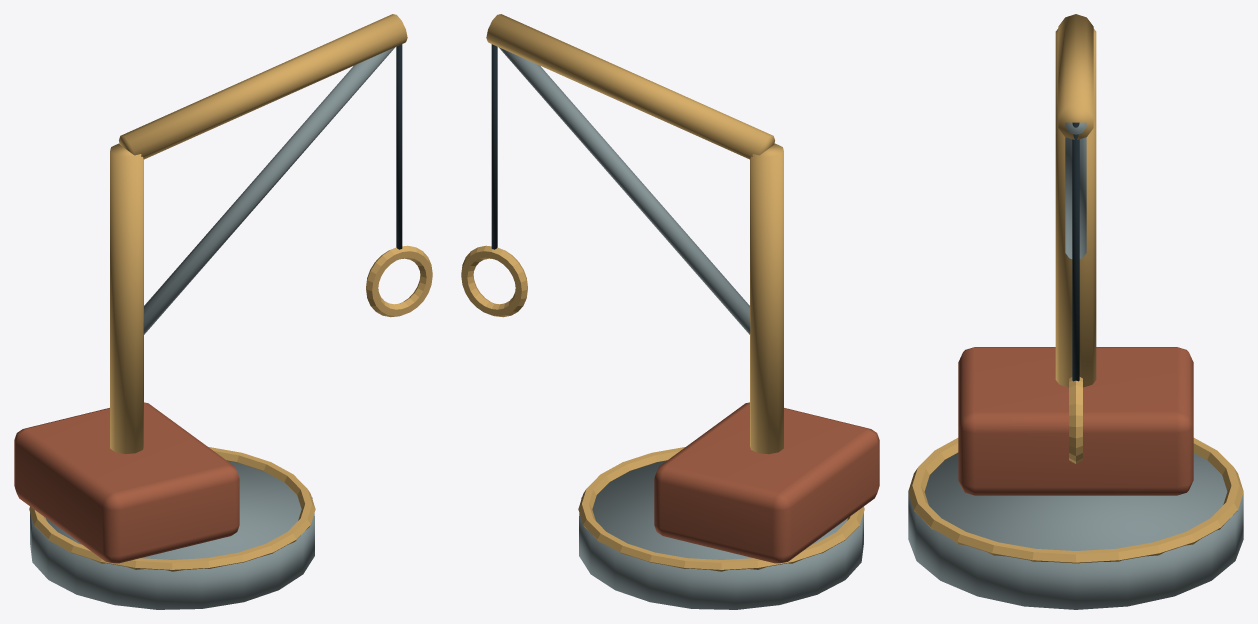
File: module-salvage.glb
3 views of the same model, side by side, from view 1: azimuth 30°, elevation 25°; view 2: azimuth 150°, elevation 25°; view 3: azimuth 270°, elevation 25° (orthographic). The views are drawn at different scales.
Visible parts, largest first — view 1: module-salvage / Brass | machined champagne, module-salvage / Copper | patinated oxblood, module-salvage / Iron | weathered steel, module-salvage / Rubber | dark insets; view 2: module-salvage / Brass | machined champagne, module-salvage / Copper | patinated oxblood, module-salvage / Iron | weathered steel, module-salvage / Rubber | dark insets; view 3: module-salvage / Iron | weathered steel, module-salvage / Copper | patinated oxblood, module-salvage / Brass | machined champagne, module-salvage / Rubber | dark insets.
Boxes of the visible parts, left/top/right/bottom form: module-salvage / Brass | machined champagne: left=29, top=14, right=432, bottom=571; module-salvage / Copper | patinated oxblood: left=14, top=402, right=239, bottom=563; module-salvage / Iron | weathered steel: left=30, top=47, right=395, bottom=609; module-salvage / Rubber | dark insets: left=396, top=44, right=402, bottom=249; module-salvage / Brass | machined champagne: left=461, top=14, right=864, bottom=571; module-salvage / Copper | patinated oxblood: left=654, top=402, right=879, bottom=563; module-salvage / Iron | weathered steel: left=498, top=47, right=863, bottom=609; module-salvage / Rubber | dark insets: left=491, top=44, right=497, bottom=249; module-salvage / Iron | weathered steel: left=908, top=122, right=1243, bottom=609; module-salvage / Copper | patinated oxblood: left=958, top=347, right=1193, bottom=495; module-salvage / Brass | machined champagne: left=908, top=14, right=1243, bottom=563; module-salvage / Rubber | dark insets: left=1072, top=122, right=1079, bottom=381.
Size of the model in its own units: 2.54 by 3.03 by 1.64.
